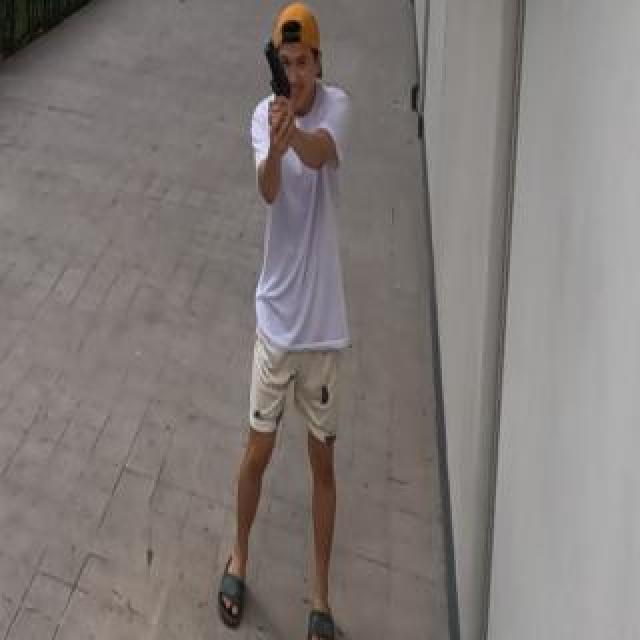Guns: (255, 31, 306, 120)
